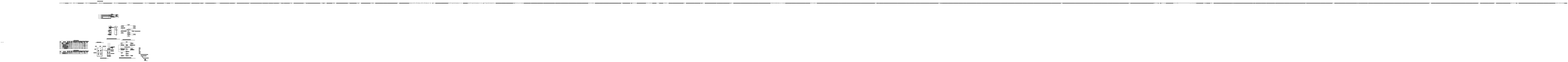door: (376, 11, 381, 14)
room: (0, 14, 581, 25), (808, 56, 1012, 62), (1464, 36, 1568, 39), (1443, 18, 1512, 20), (1344, 12, 1413, 14), (1246, 18, 1314, 20), (1246, 12, 1314, 14), (1443, 12, 1511, 14), (1392, 37, 1445, 39), (1353, 18, 1404, 20), (1452, 3, 1499, 5), (1355, 3, 1402, 5), (1258, 3, 1305, 5), (1355, 6, 1402, 8), (1443, 21, 1512, 22), (1246, 21, 1314, 22), (1504, 42, 1568, 43), (1387, 31, 1450, 32), (1504, 33, 1567, 34), (1387, 33, 1450, 34), (1255, 35, 1318, 36), (1255, 44, 1318, 45), (1504, 44, 1567, 45), (1387, 47, 1450, 48), (1387, 35, 1450, 36), (1355, 9, 1403, 10), (1258, 8, 1305, 9)
wall: (1246, 15, 1511, 17), (1255, 37, 1359, 39), (1350, 40, 1487, 41), (1255, 42, 1343, 43), (1362, 23, 1395, 24)
